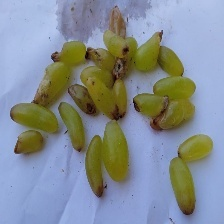grapes: (17, 26, 207, 176)
